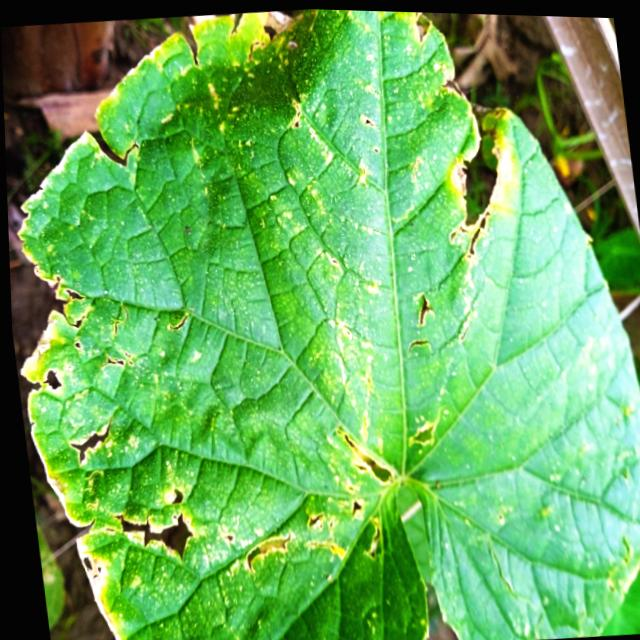Anthracnose: (240, 413, 444, 586), (111, 483, 210, 568), (61, 414, 124, 470), (41, 358, 71, 397)
